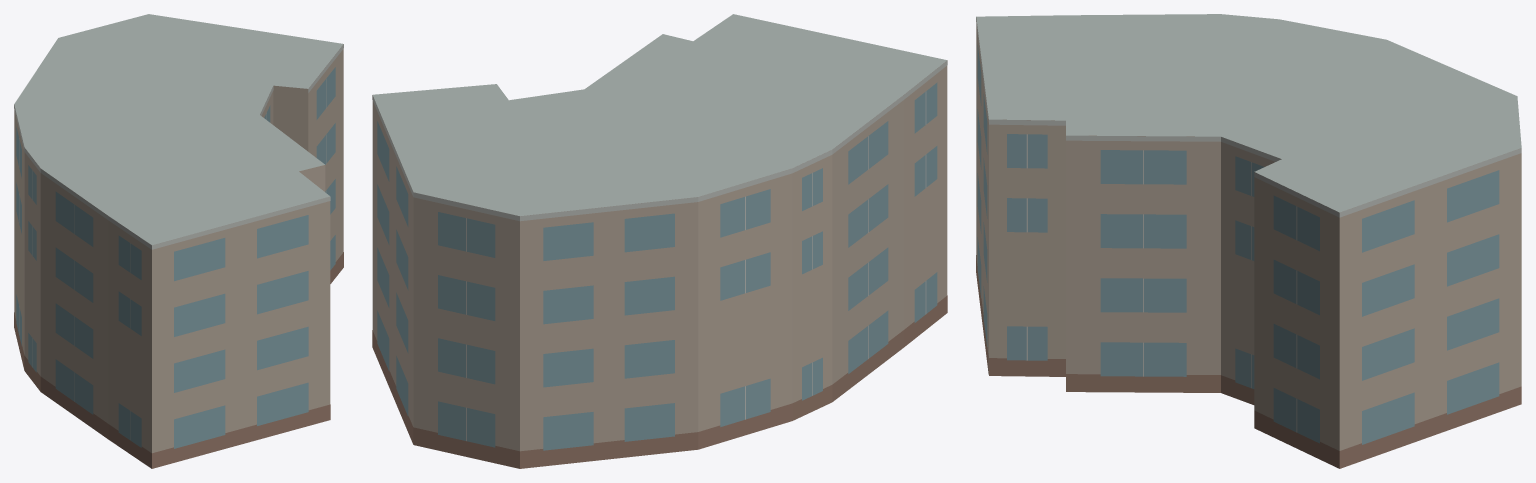
File: survey-upis-32824407.glb
3 views of the same model, side by side, from view 1: azimuth 30°, elevation 25°; view 2: azimuth 150°, elevation 25°; view 3: azimuth 270°, elevation 25° (orthographic). The views are drawn at different scales.
Parts seen in each view (by area): view 1: survey-upis-32824407.tmp; view 2: survey-upis-32824407.tmp; view 3: survey-upis-32824407.tmp.
Boxes of the visible parts, <box> form: survey-upis-32824407.tmp: <box>14,14,343,468</box>; survey-upis-32824407.tmp: <box>372,14,947,468</box>; survey-upis-32824407.tmp: <box>976,14,1521,468</box>.
Size of the model in its own units: 20.27 by 12.2 by 23.54.
